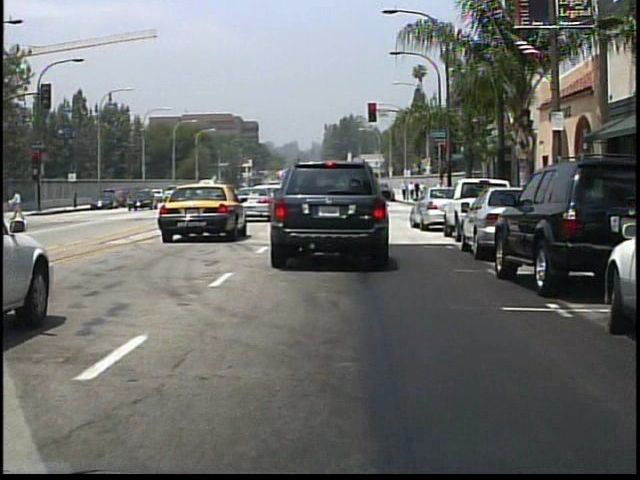person: (432, 178, 451, 214), (11, 187, 27, 222), (419, 180, 427, 204), (409, 180, 417, 202), (401, 179, 408, 201)
